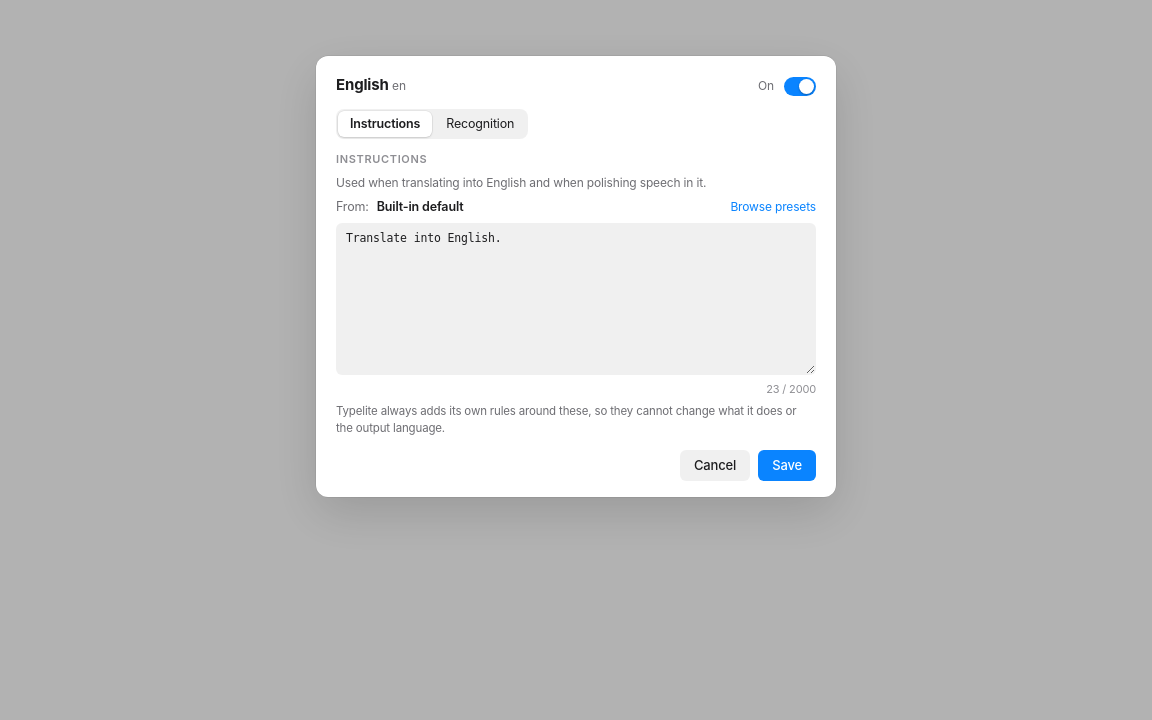
it: LanguageSheet › without a preset, recognition relies on the user hints
Expected: the text box named "Instructions" holds "Translate into English.", [336,222,816,374]
What coordinates should you click on to do the following:
click the tab "Recognition"
I would click on:
 (480, 124)
Its box is [434,110,526,137].
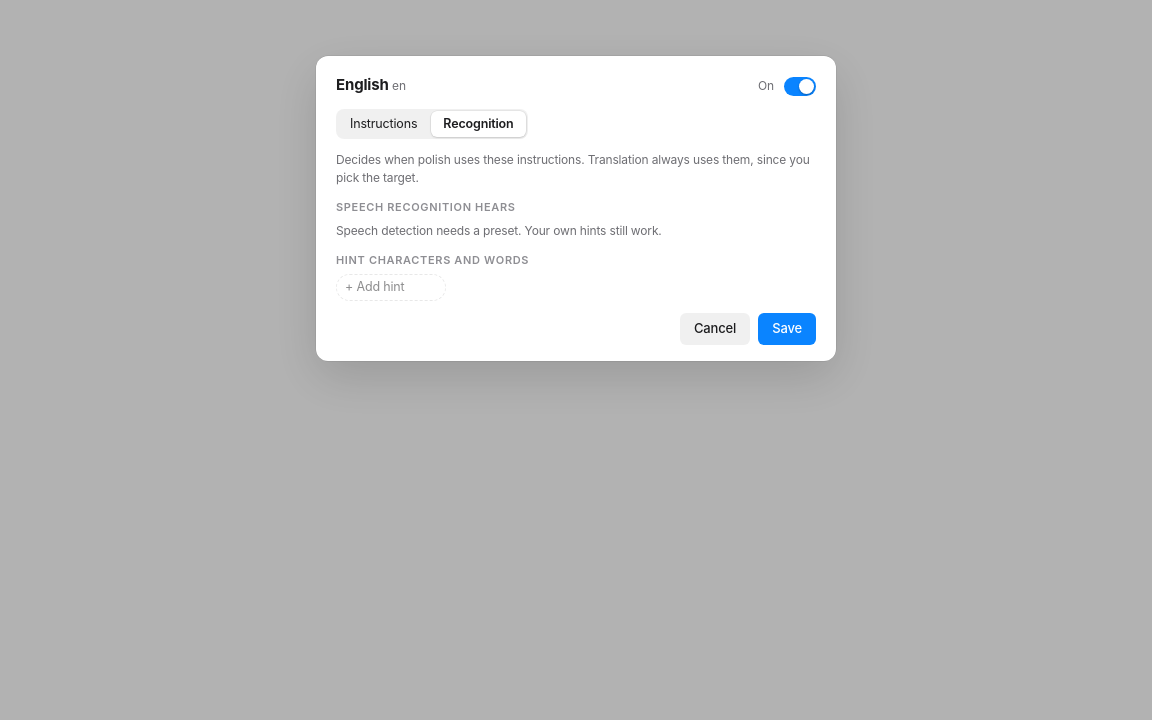
Result: the text "Speech detection needs a preset. Your own hints still work." is shown at [336,222,662,240]
